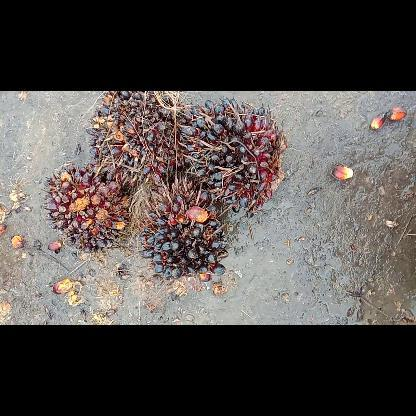TBS abnormal: (176, 96, 290, 220), (136, 177, 234, 285)
TBS masak: (40, 160, 142, 258), (85, 91, 191, 185)
